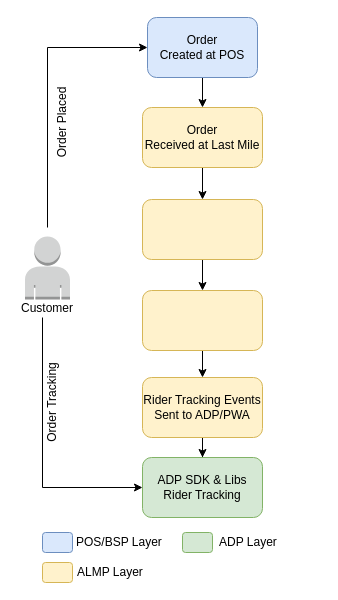
Image size: 338x600. Some labels were removed from this diagram. The shapes that lost their labels are listed below. From the top down, each one's box as (x1, y1, x2, y2) in pixels, then its label:
(142, 198, 262, 260): Order Filtered for ADP Source/Channel
(142, 290, 262, 350): Order Assigned to Rider
